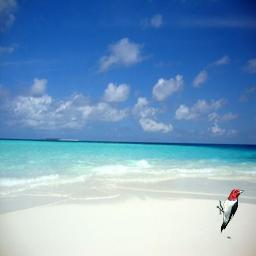Woodpecker: (216, 189, 245, 234)
